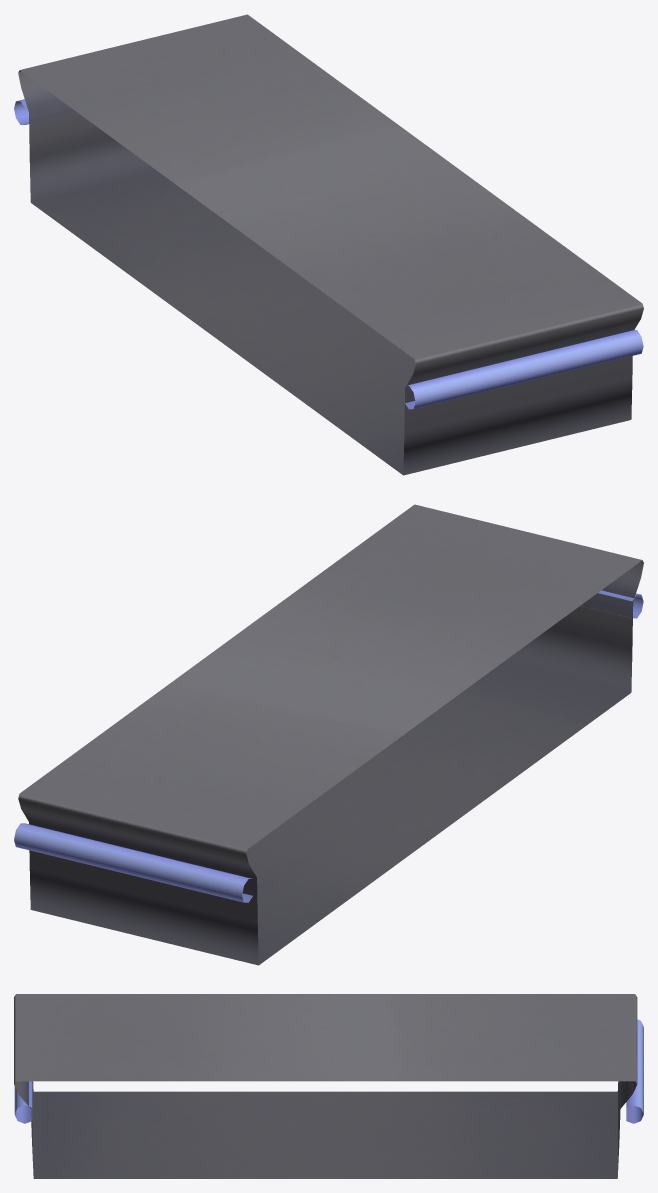
File: Space_MovingPlatMid_Vert.fbx
The picture shows the model from 3 angles, top to bottom: view 1: azimuth 30°, elevation 25°; view 2: azimuth 150°, elevation 25°; view 3: azimuth 270°, elevation 25°; orthographic projection. The views are drawn at different scales.
Parts seen in each view (by area): view 1: polySurface742; view 2: polySurface742; view 3: polySurface742.
Boxes of the visible parts, box(x1,y1,x2,y2) form: polySurface742: box(14, 14, 643, 475); polySurface742: box(14, 504, 643, 965); polySurface742: box(14, 994, 643, 1178).
Bounding box in the file's own units: 100 × 52.14 × 305.
